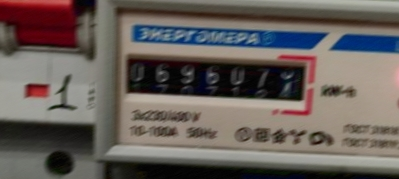0: (228, 65, 245, 88), (128, 62, 144, 84)
4: (277, 81, 292, 102)
6: (153, 63, 169, 84), (203, 65, 218, 86)
7: (253, 68, 269, 90)
9: (178, 64, 192, 86)
screen: (110, 44, 319, 115)
